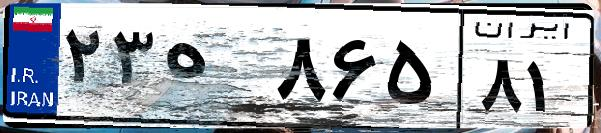1: (525, 38, 570, 115)
2: (57, 26, 110, 100)
3: (110, 28, 158, 98)
5: (385, 28, 445, 110)
6: (330, 28, 385, 110)
8: (270, 28, 330, 110), (475, 38, 525, 113)
ه: (158, 20, 270, 120)
